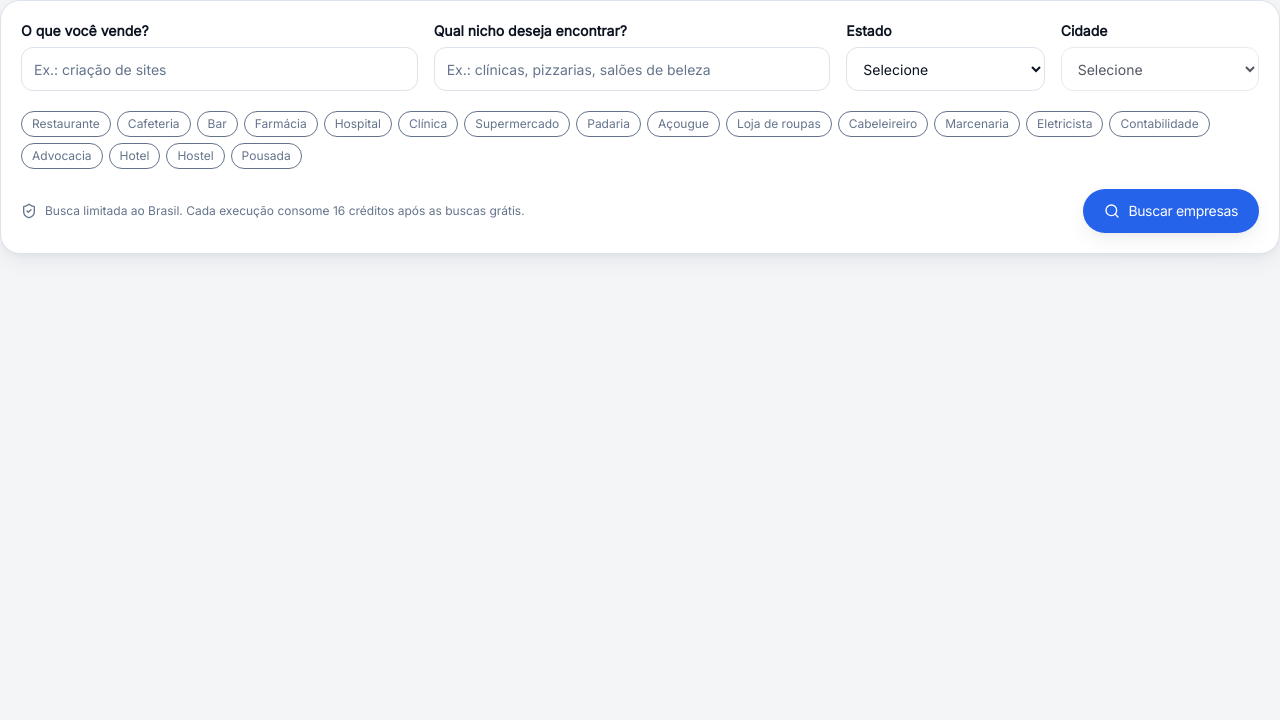
OpportunityFinderPage › keeps one primary CTA and marks the active ranking filter accessibly
The image size is (1280, 720).
Type "  criação de sites  " into the field labelled "O que você vende?" at (219, 69), box [21, 47, 418, 91]
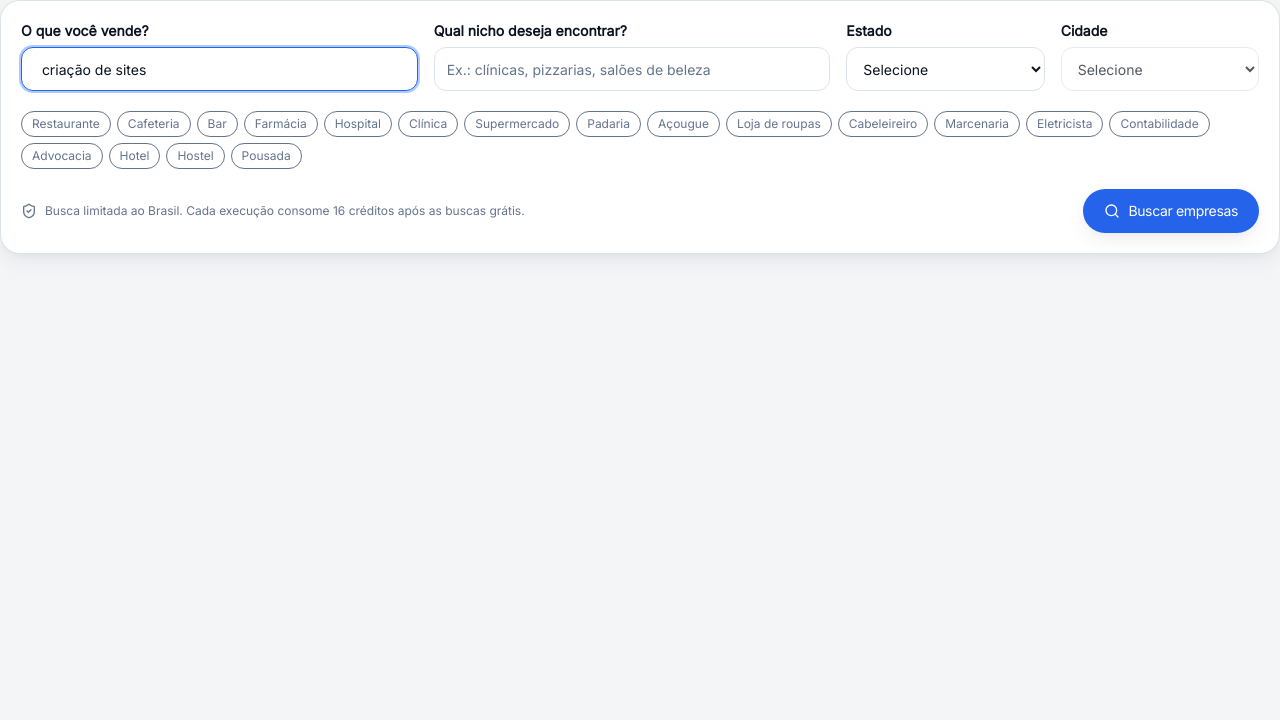
Type " clínicas " into the field labelled "Qual nicho deseja encontrar?" at (632, 69), box [434, 47, 830, 91]
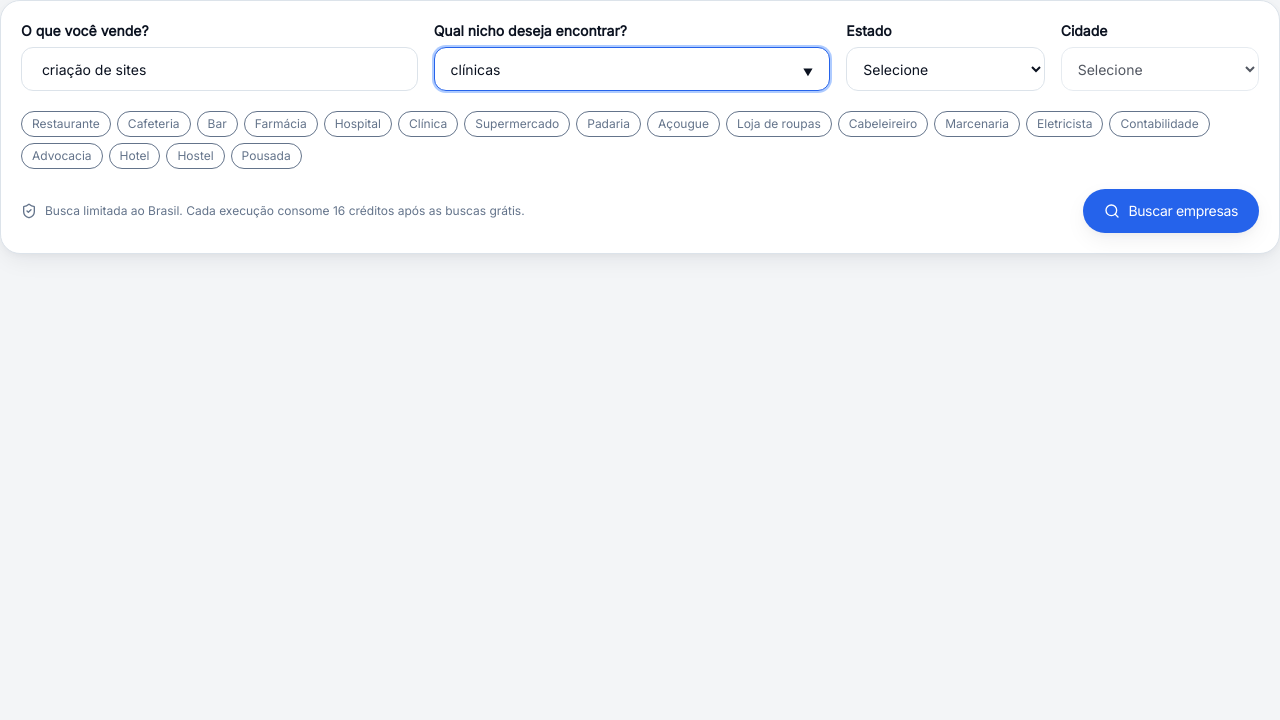
Select "São Paulo" in the dropdown labelled "Estado" at (945, 69), box [846, 47, 1045, 91]
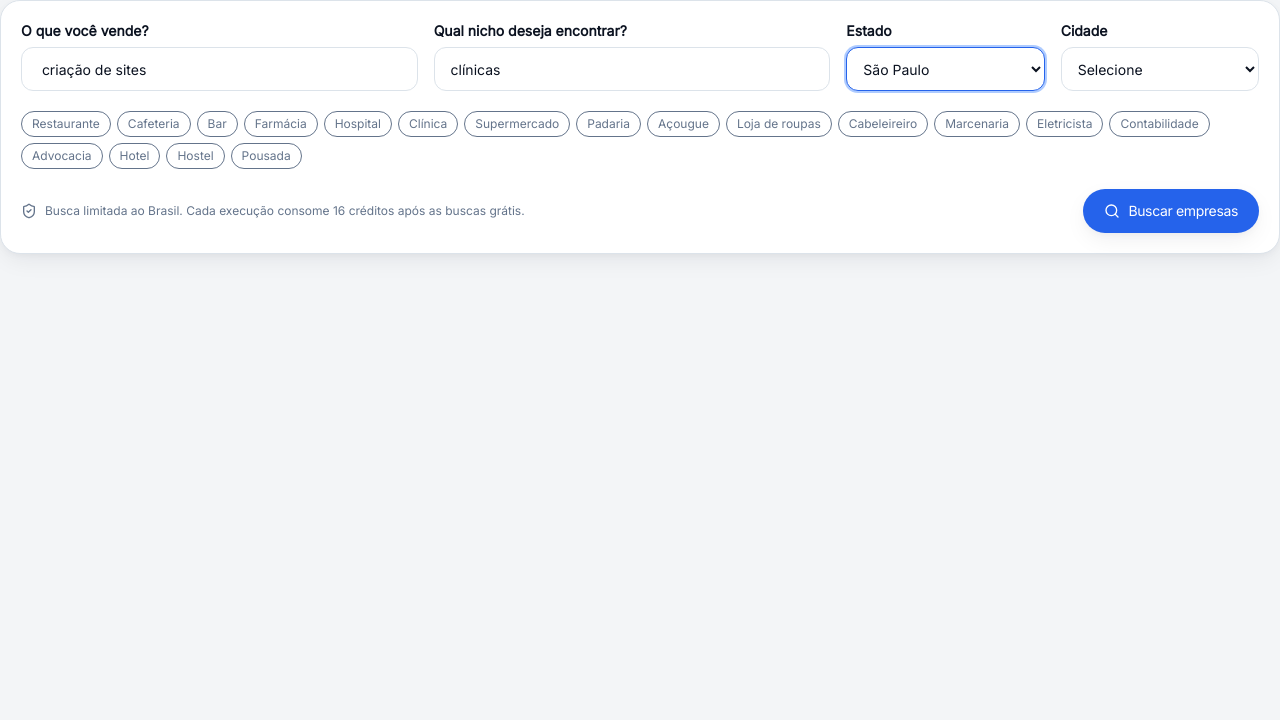
Select "Campinas" in the dropdown labelled "Cidade" at (1160, 69), box [1061, 47, 1259, 91]
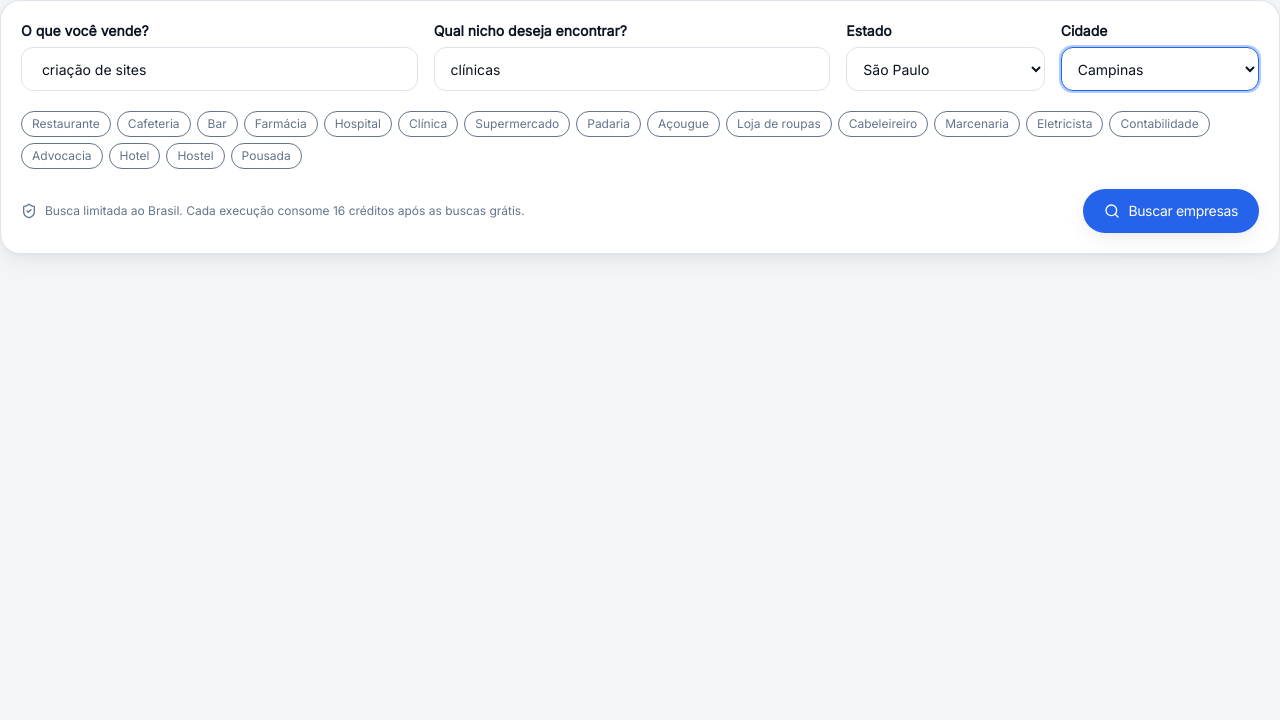
Click the button "Buscar empresas" at (1171, 211), box [1083, 189, 1259, 233]
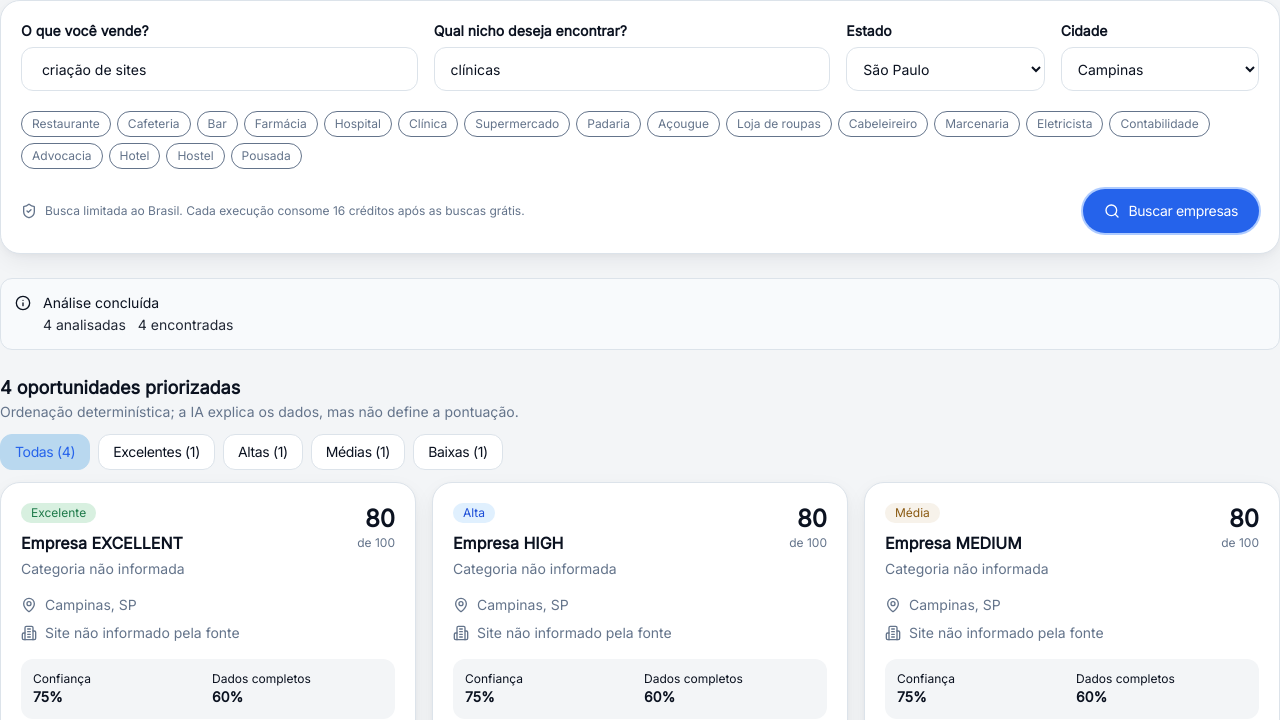
Check: the heading "4 oportunidades priorizadas" is shown, box [0, 377, 240, 398]
Check: the number of buttons with class "cta-primary" is 1, box [1083, 189, 1259, 233]
Click the button "Altas (1)" at (263, 452), box [223, 434, 303, 470]
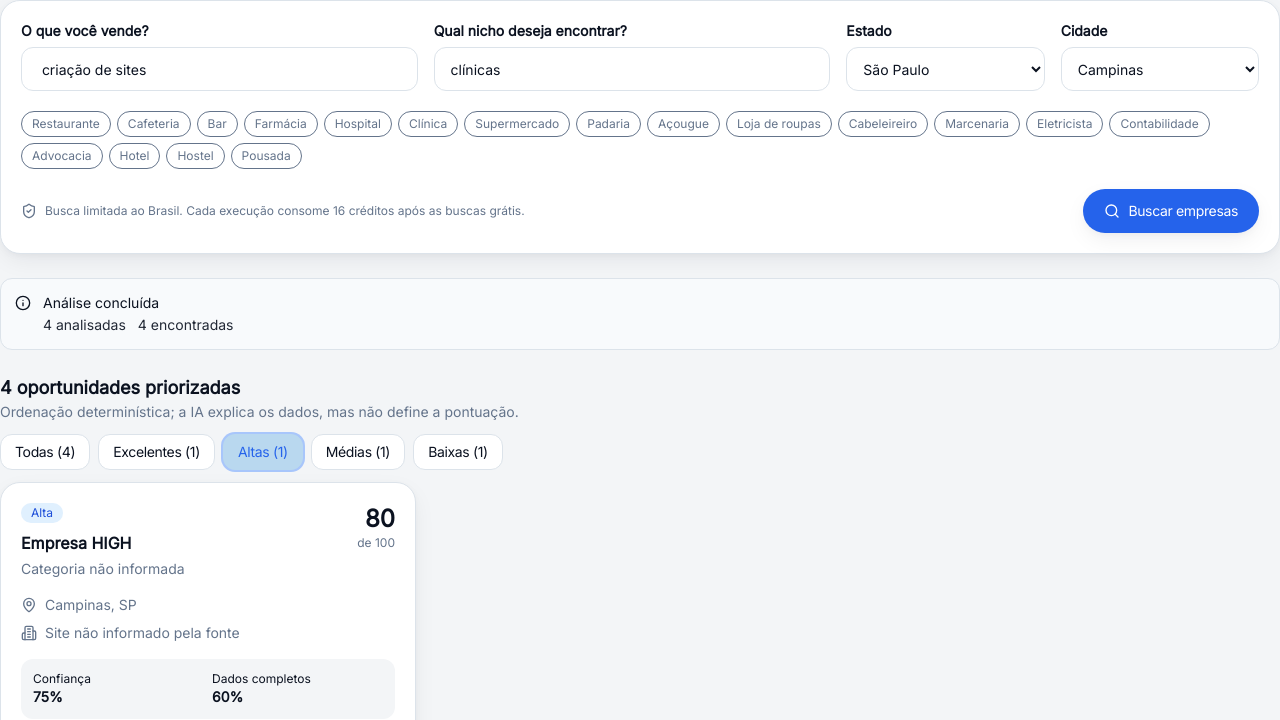
Check: the heading "Empresa HIGH" is shown, box [21, 533, 132, 553]
Check: the heading "Empresa EXCELLENT" is gone
Check: the number of buttons with class "cta-primary" is 1, box [1083, 189, 1259, 233]
